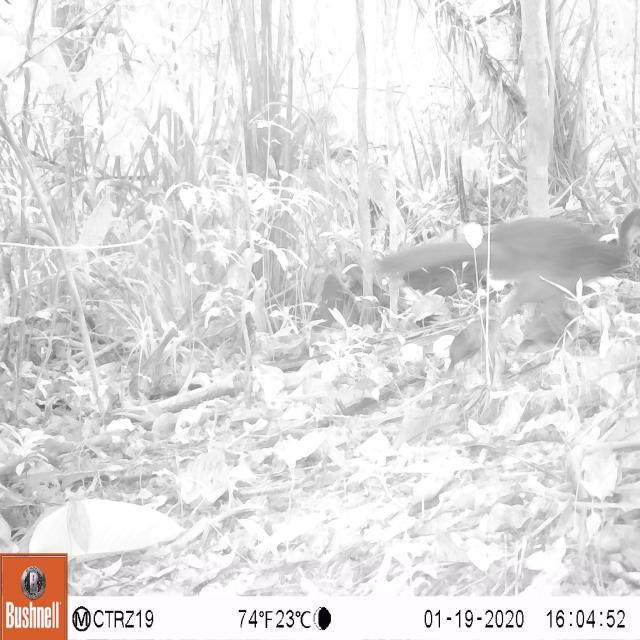Spixs Guan: (378, 188, 640, 355)
